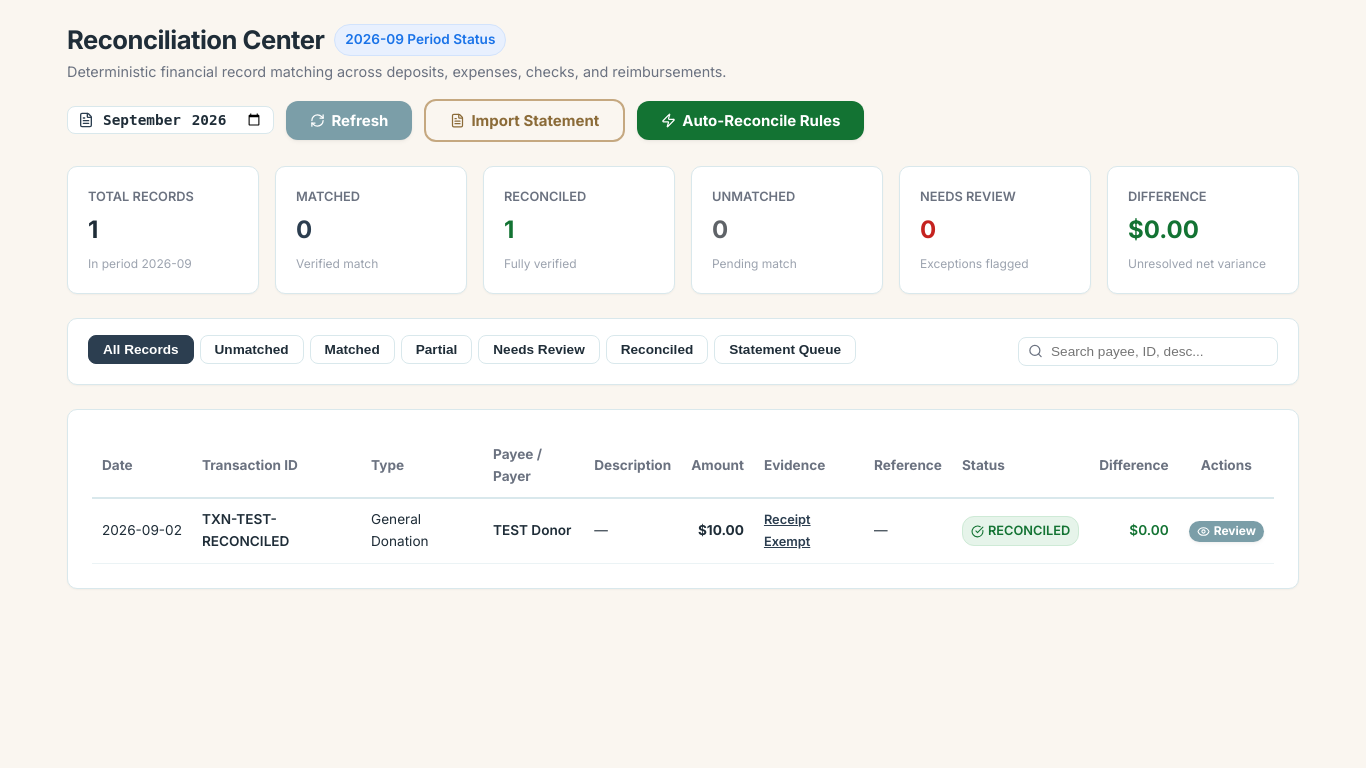
it: Reconciliation UI Page & Modal Button Rendering Suite › does not render Reconcile mutation button when status is already RECONCILED
This screenshot has width=1366, height=768.
Expected: the text "TXN-TEST-RECONCILED" is shown, [192,498,361,563]
What coordinates should you click on to do the following:
click the button "Review"
I would click on:
 (1226, 531)
Its box is [1189,521,1264,542].
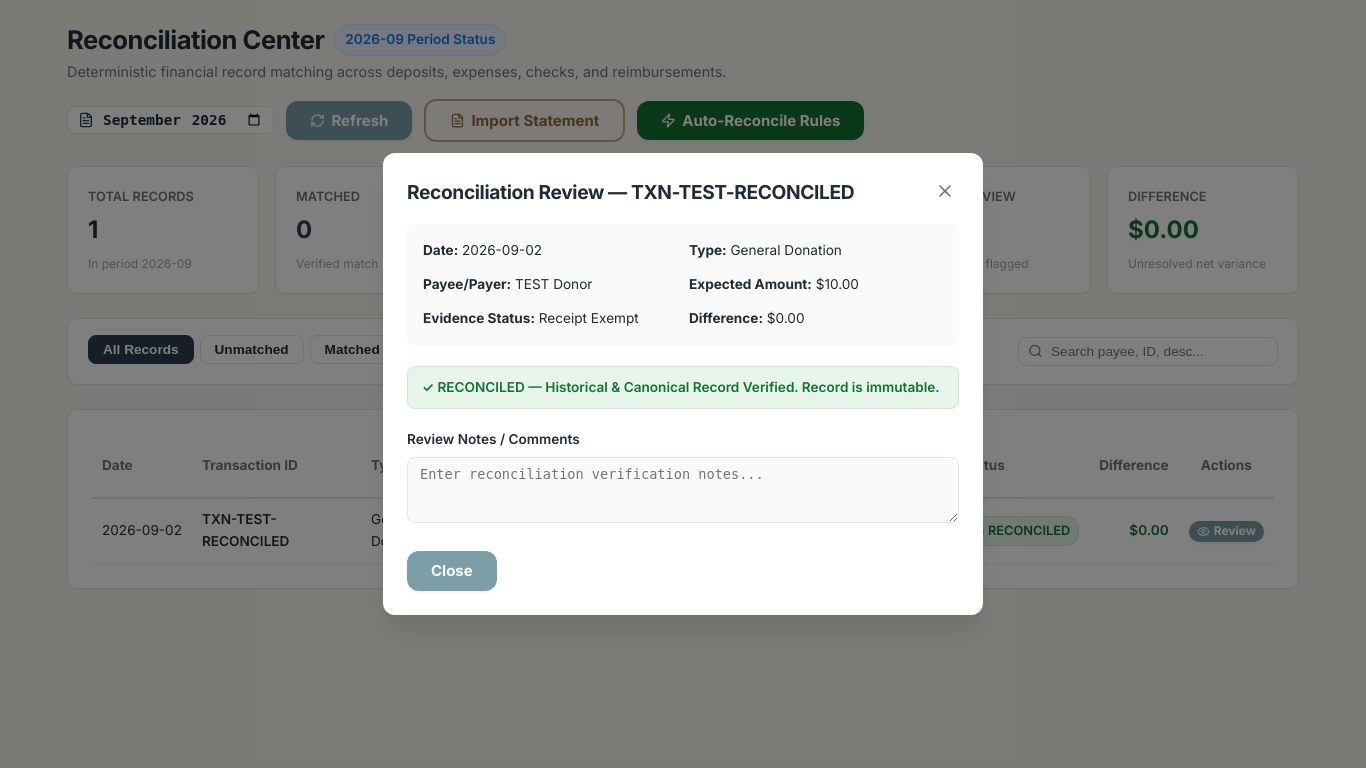
Expected: the text "RECONCILED — Historical & Canonical Record Verified" is shown, [422,379,940,395]
